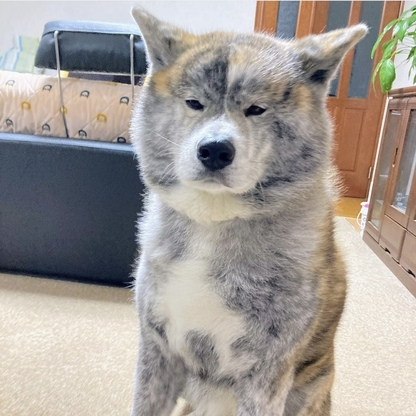akita: (115, 1, 378, 416)
